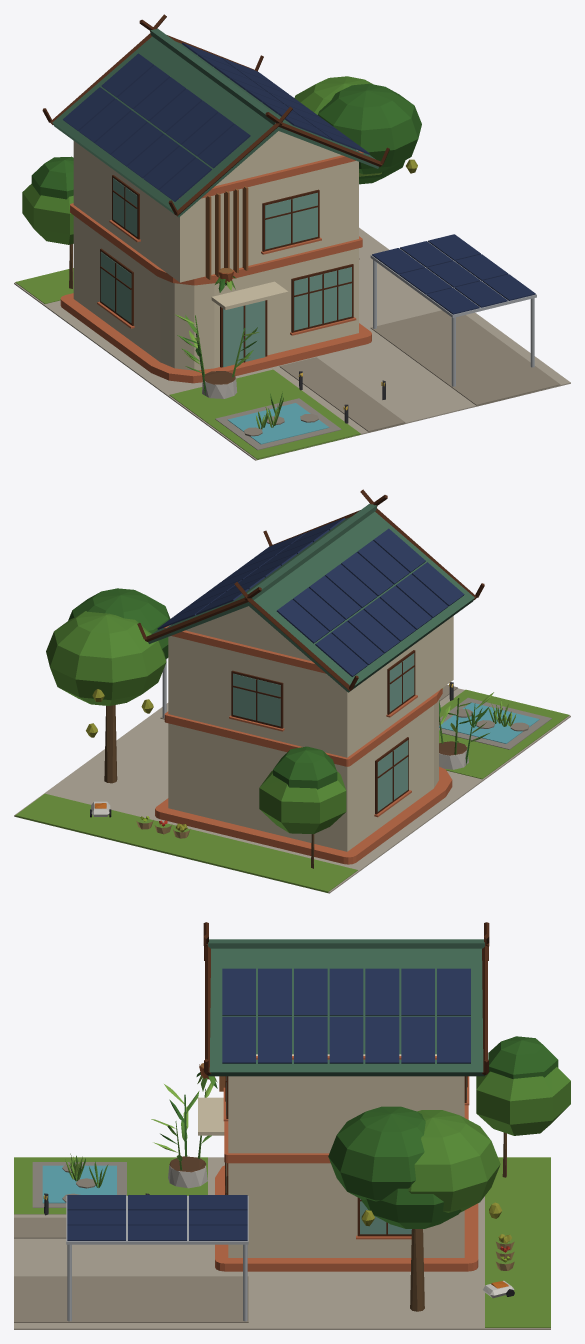
Rendered from house12_1.glb.
The picture shows the model from 3 angles, top to bottom: view 1: azimuth 30°, elevation 25°; view 2: azimuth 150°, elevation 25°; view 3: azimuth 270°, elevation 25°; orthographic projection. The views are drawn at different scales.
Visible parts, largest first — view 1: body; view 2: body; view 3: body.
Part boxes in pixels (x1=…): body: x1=14, y1=14, x2=570, y2=460; body: x1=14, y1=489, x2=570, y2=893; body: x1=14, y1=922, x2=570, y2=1329.
Size of the model in its own units: 12.54 by 9.53 by 16.5.
